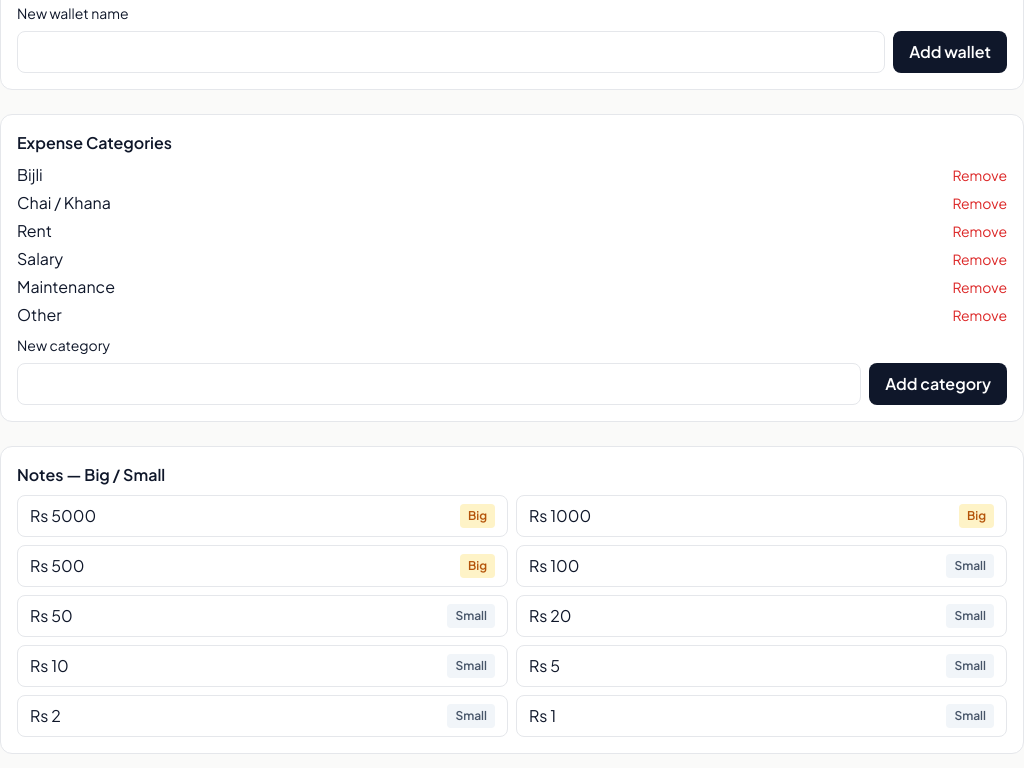
Test: Settings › adds an expense category
(page scrolled)
Type "Internet" into the field labelled "New category" at (439,384), box [17,363,861,405]
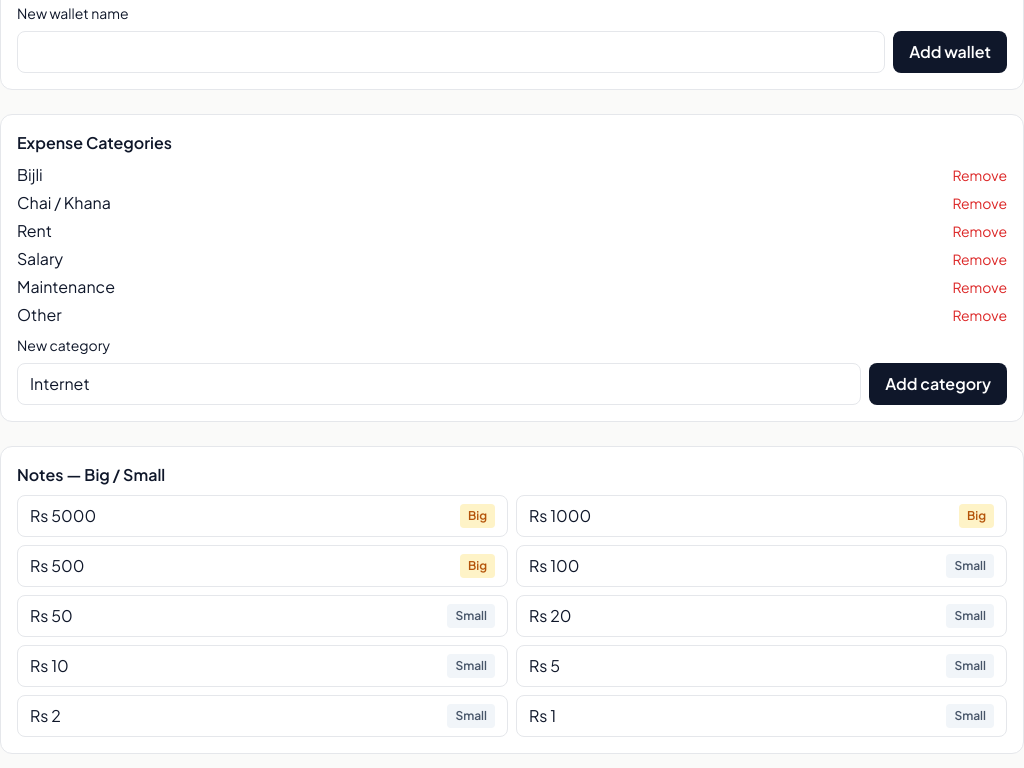
Click the button "Add category" at (938,384), box [869,363,1007,405]
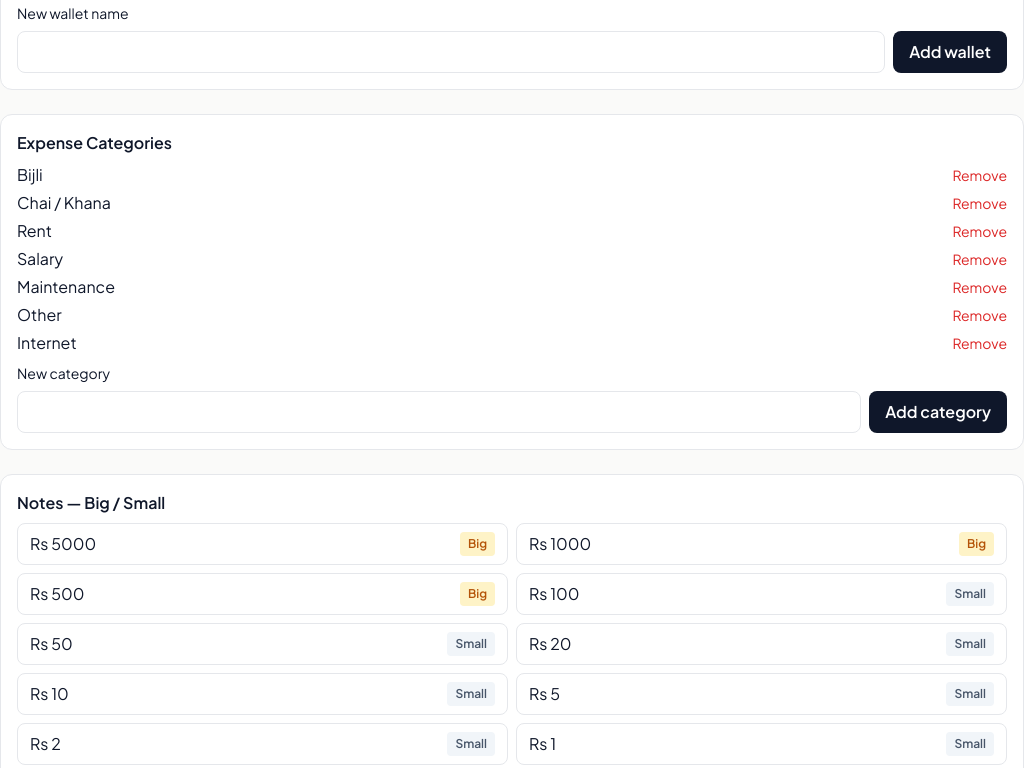
Check: the text "Internet" is shown, box [17,331,77,355]
